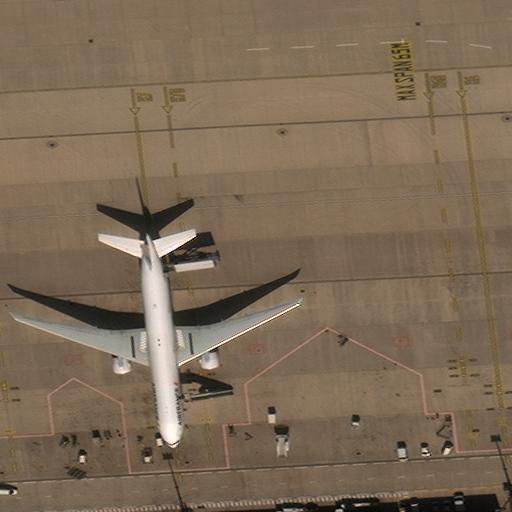Large Civil Transport: (11, 234, 301, 446)
